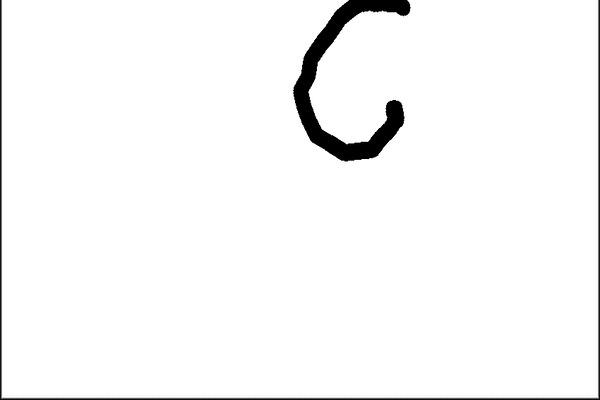C: (286, 0, 420, 163)
